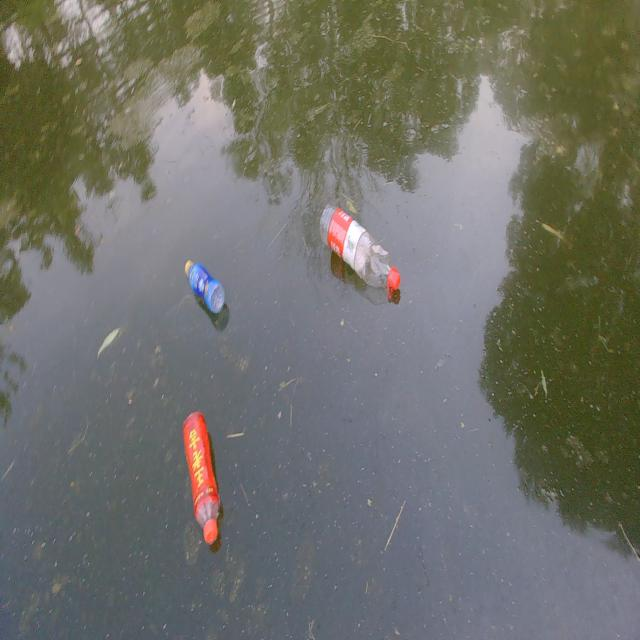Bottle: (316, 200, 402, 300), (181, 407, 221, 548), (180, 253, 228, 312)
